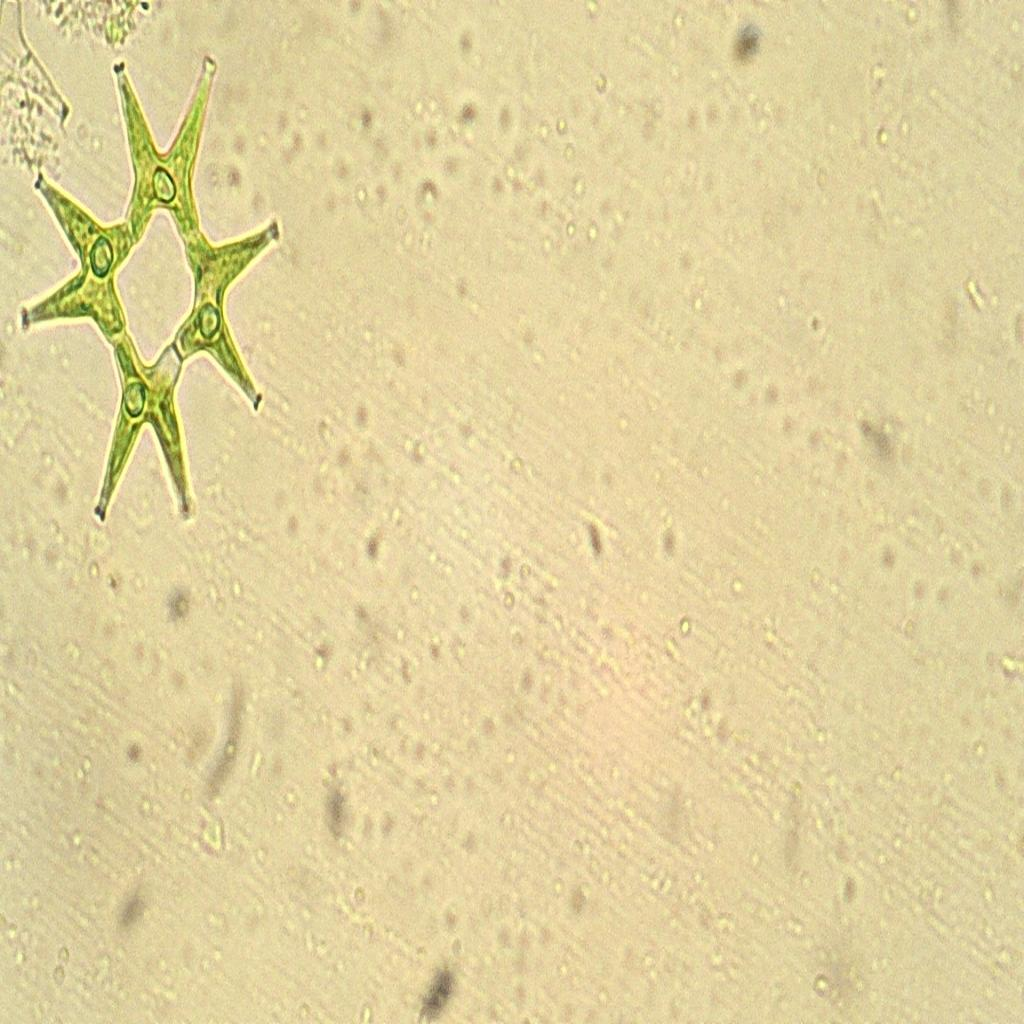Pediastrum_75O: (3, 33, 292, 543)
